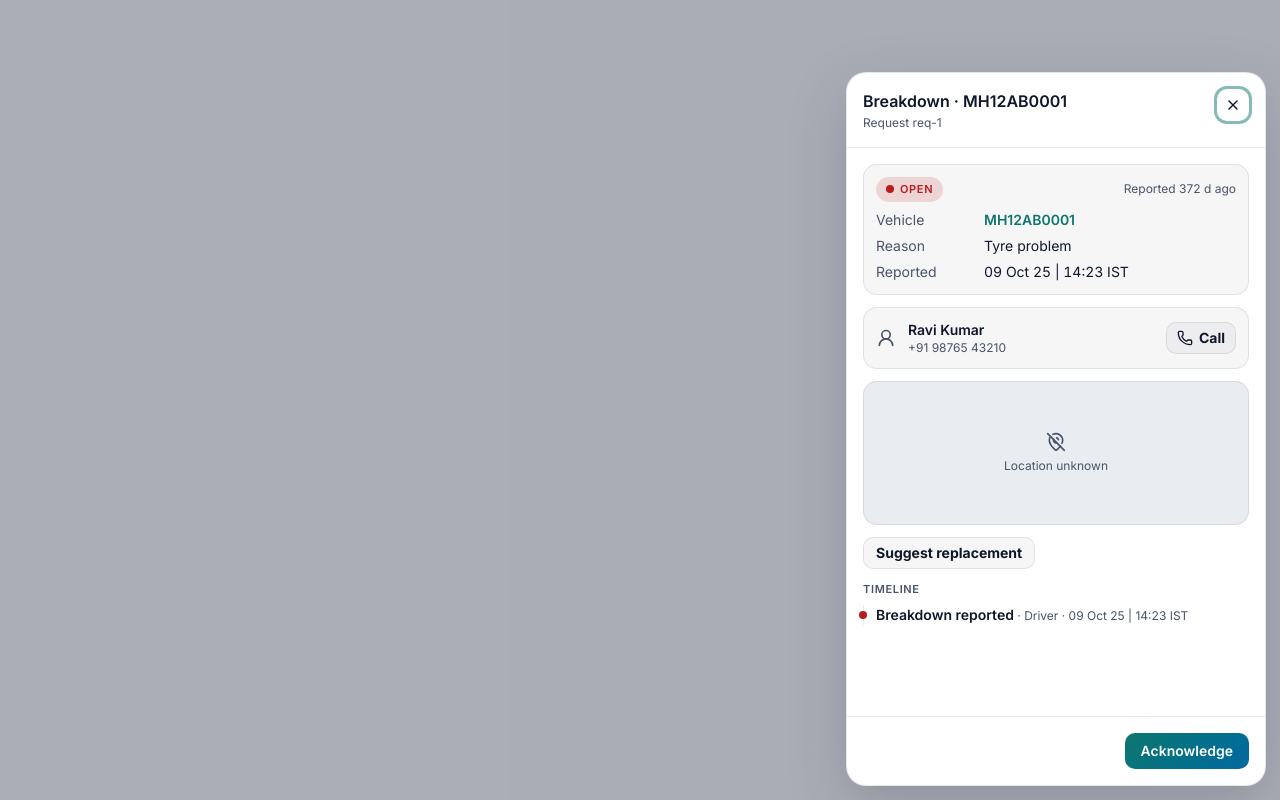
Test case: F14-T2: drawer actions follow the state machine › an action takes an optional note; a 409 refreshes and says so
Expected: the dialog is shown, [846, 72, 1266, 786]
Click the button "Acknowledge" at (1187, 751), box [1124, 733, 1249, 769]
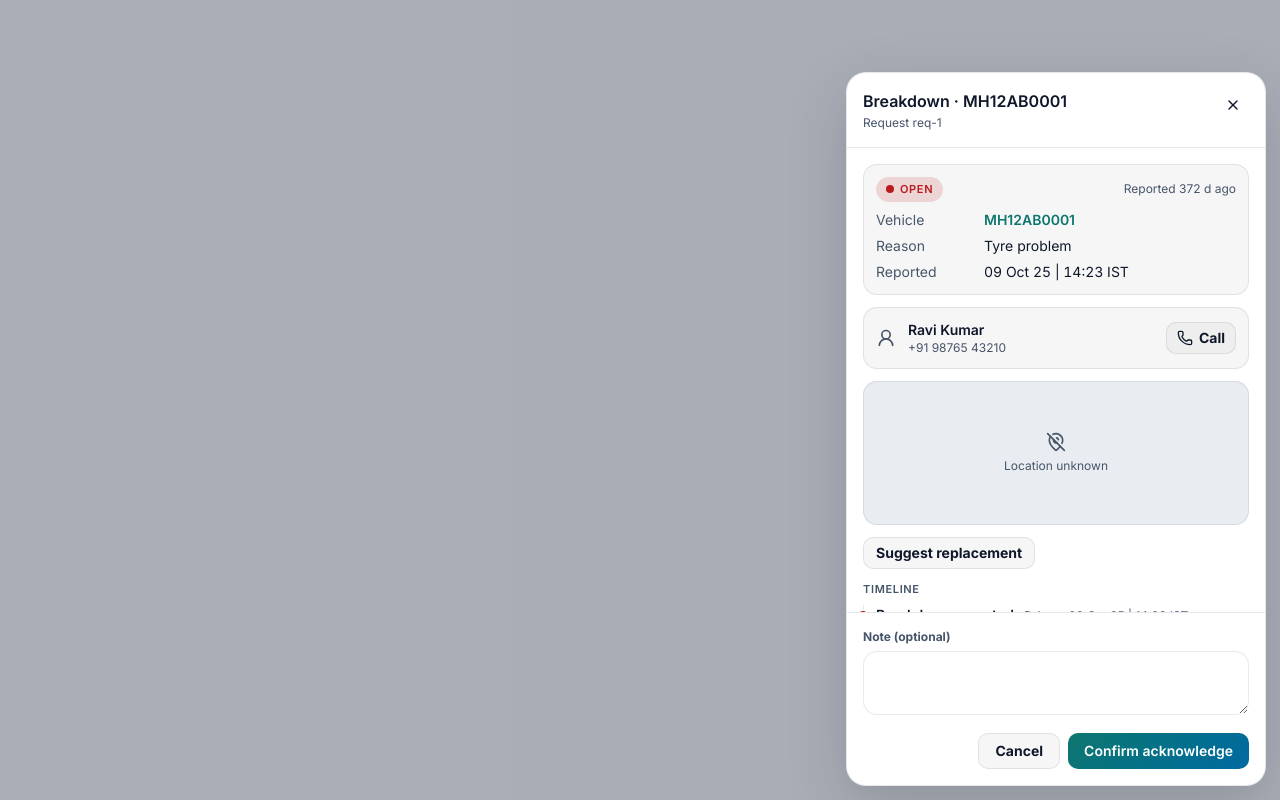
Type "On it" into the text box labelled "Note (optional)" at (1056, 683), box [863, 651, 1249, 715]
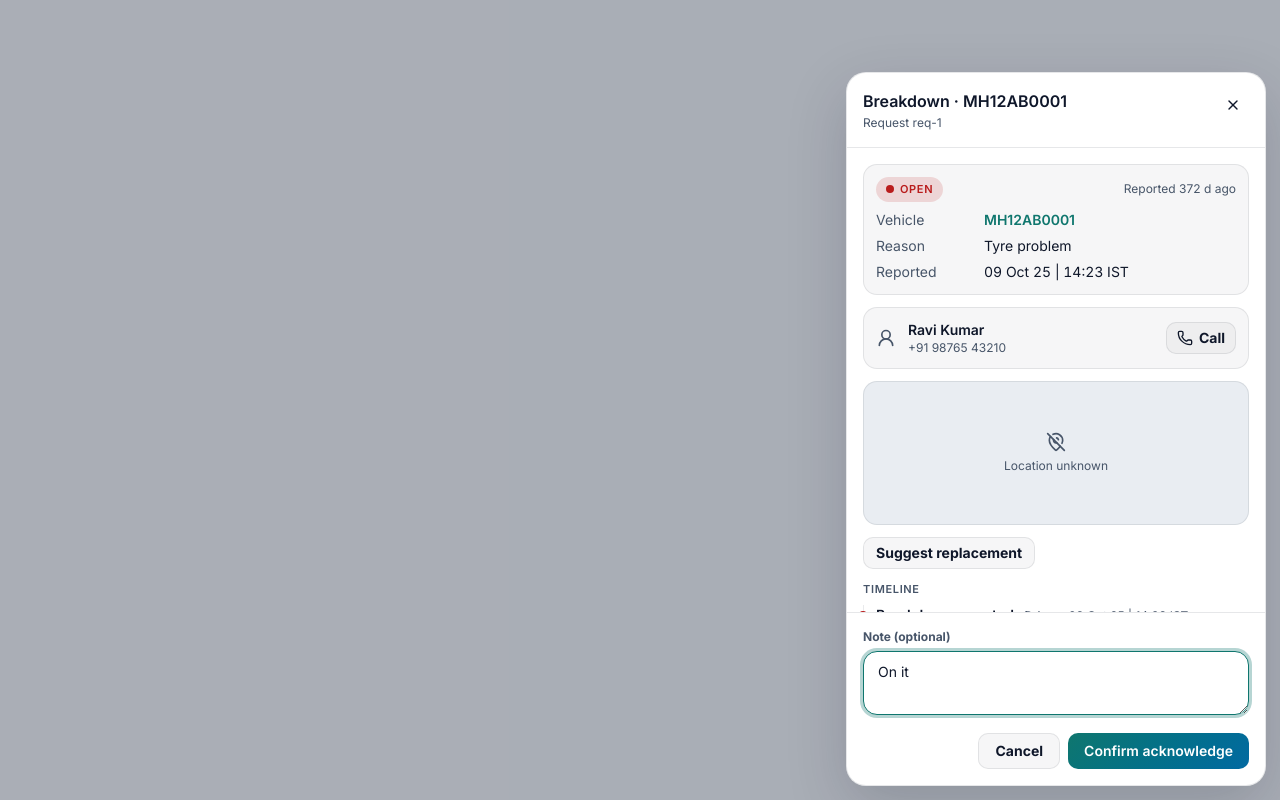
Click the button "Confirm acknowledge" at (1159, 751), box [1068, 733, 1249, 769]
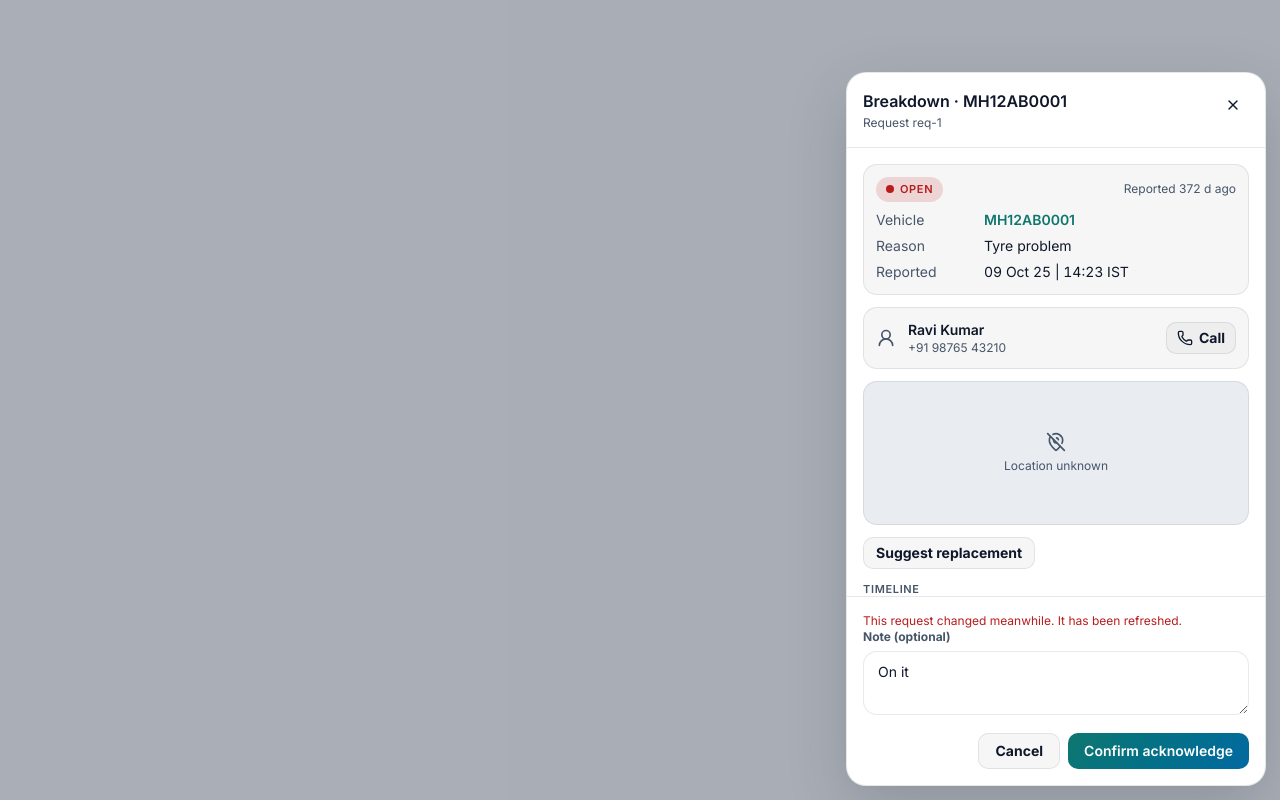
Now the message with test id "action-error" shows "This request changed meanwhile", box [863, 613, 1182, 628]
